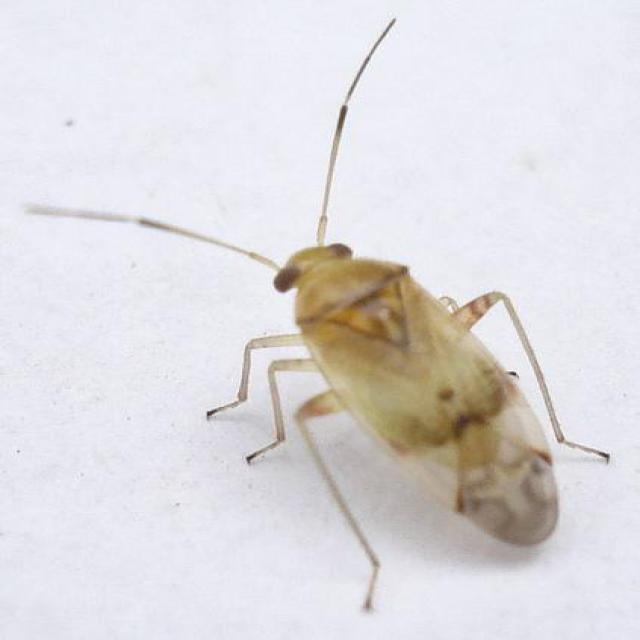Miridae-Adult-: (67, 21, 611, 564)
